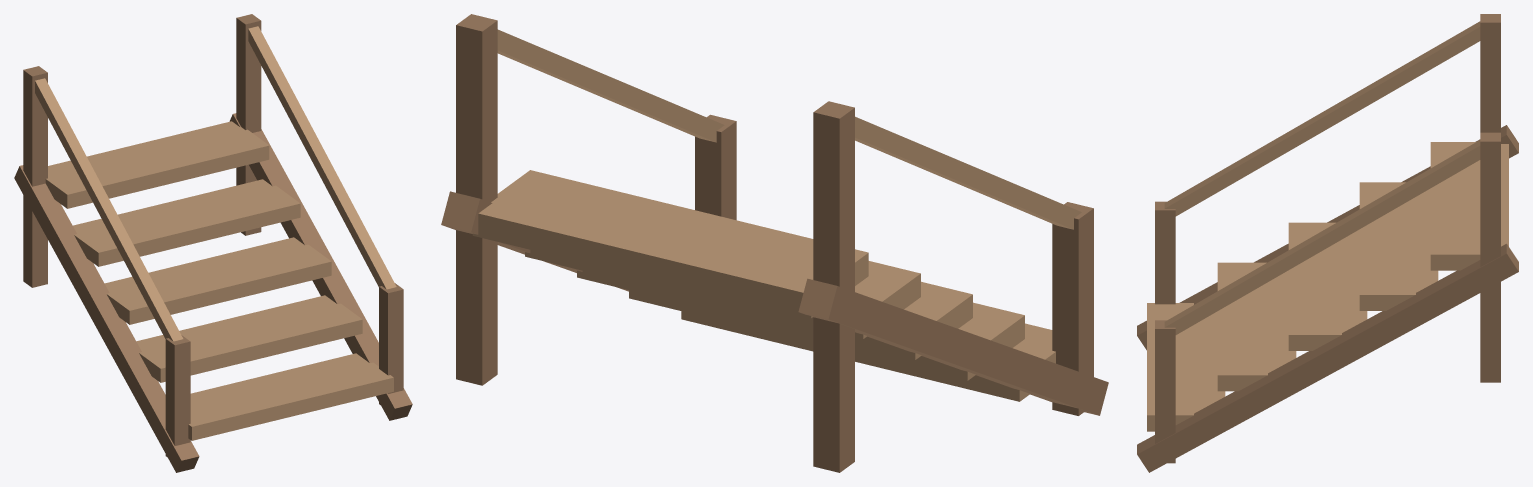
File: Cave_WoodStairs.fbx
The picture shows the model from 3 angles, left to right: view 1: azimuth 30°, elevation 25°; view 2: azimuth 150°, elevation 25°; view 3: azimuth 270°, elevation 25°; orthographic projection. The views are drawn at different scales.
Visible parts, largest first — view 1: Cave_WoodStairs; view 2: Cave_WoodStairs; view 3: Cave_WoodStairs.
Part boxes in pixels (x1,y1,x2,y2): Cave_WoodStairs: [14, 14, 412, 472]; Cave_WoodStairs: [441, 14, 1108, 472]; Cave_WoodStairs: [1137, 14, 1518, 472].
Size of the model in its own units: 2.06 by 2.47 by 2.58.
